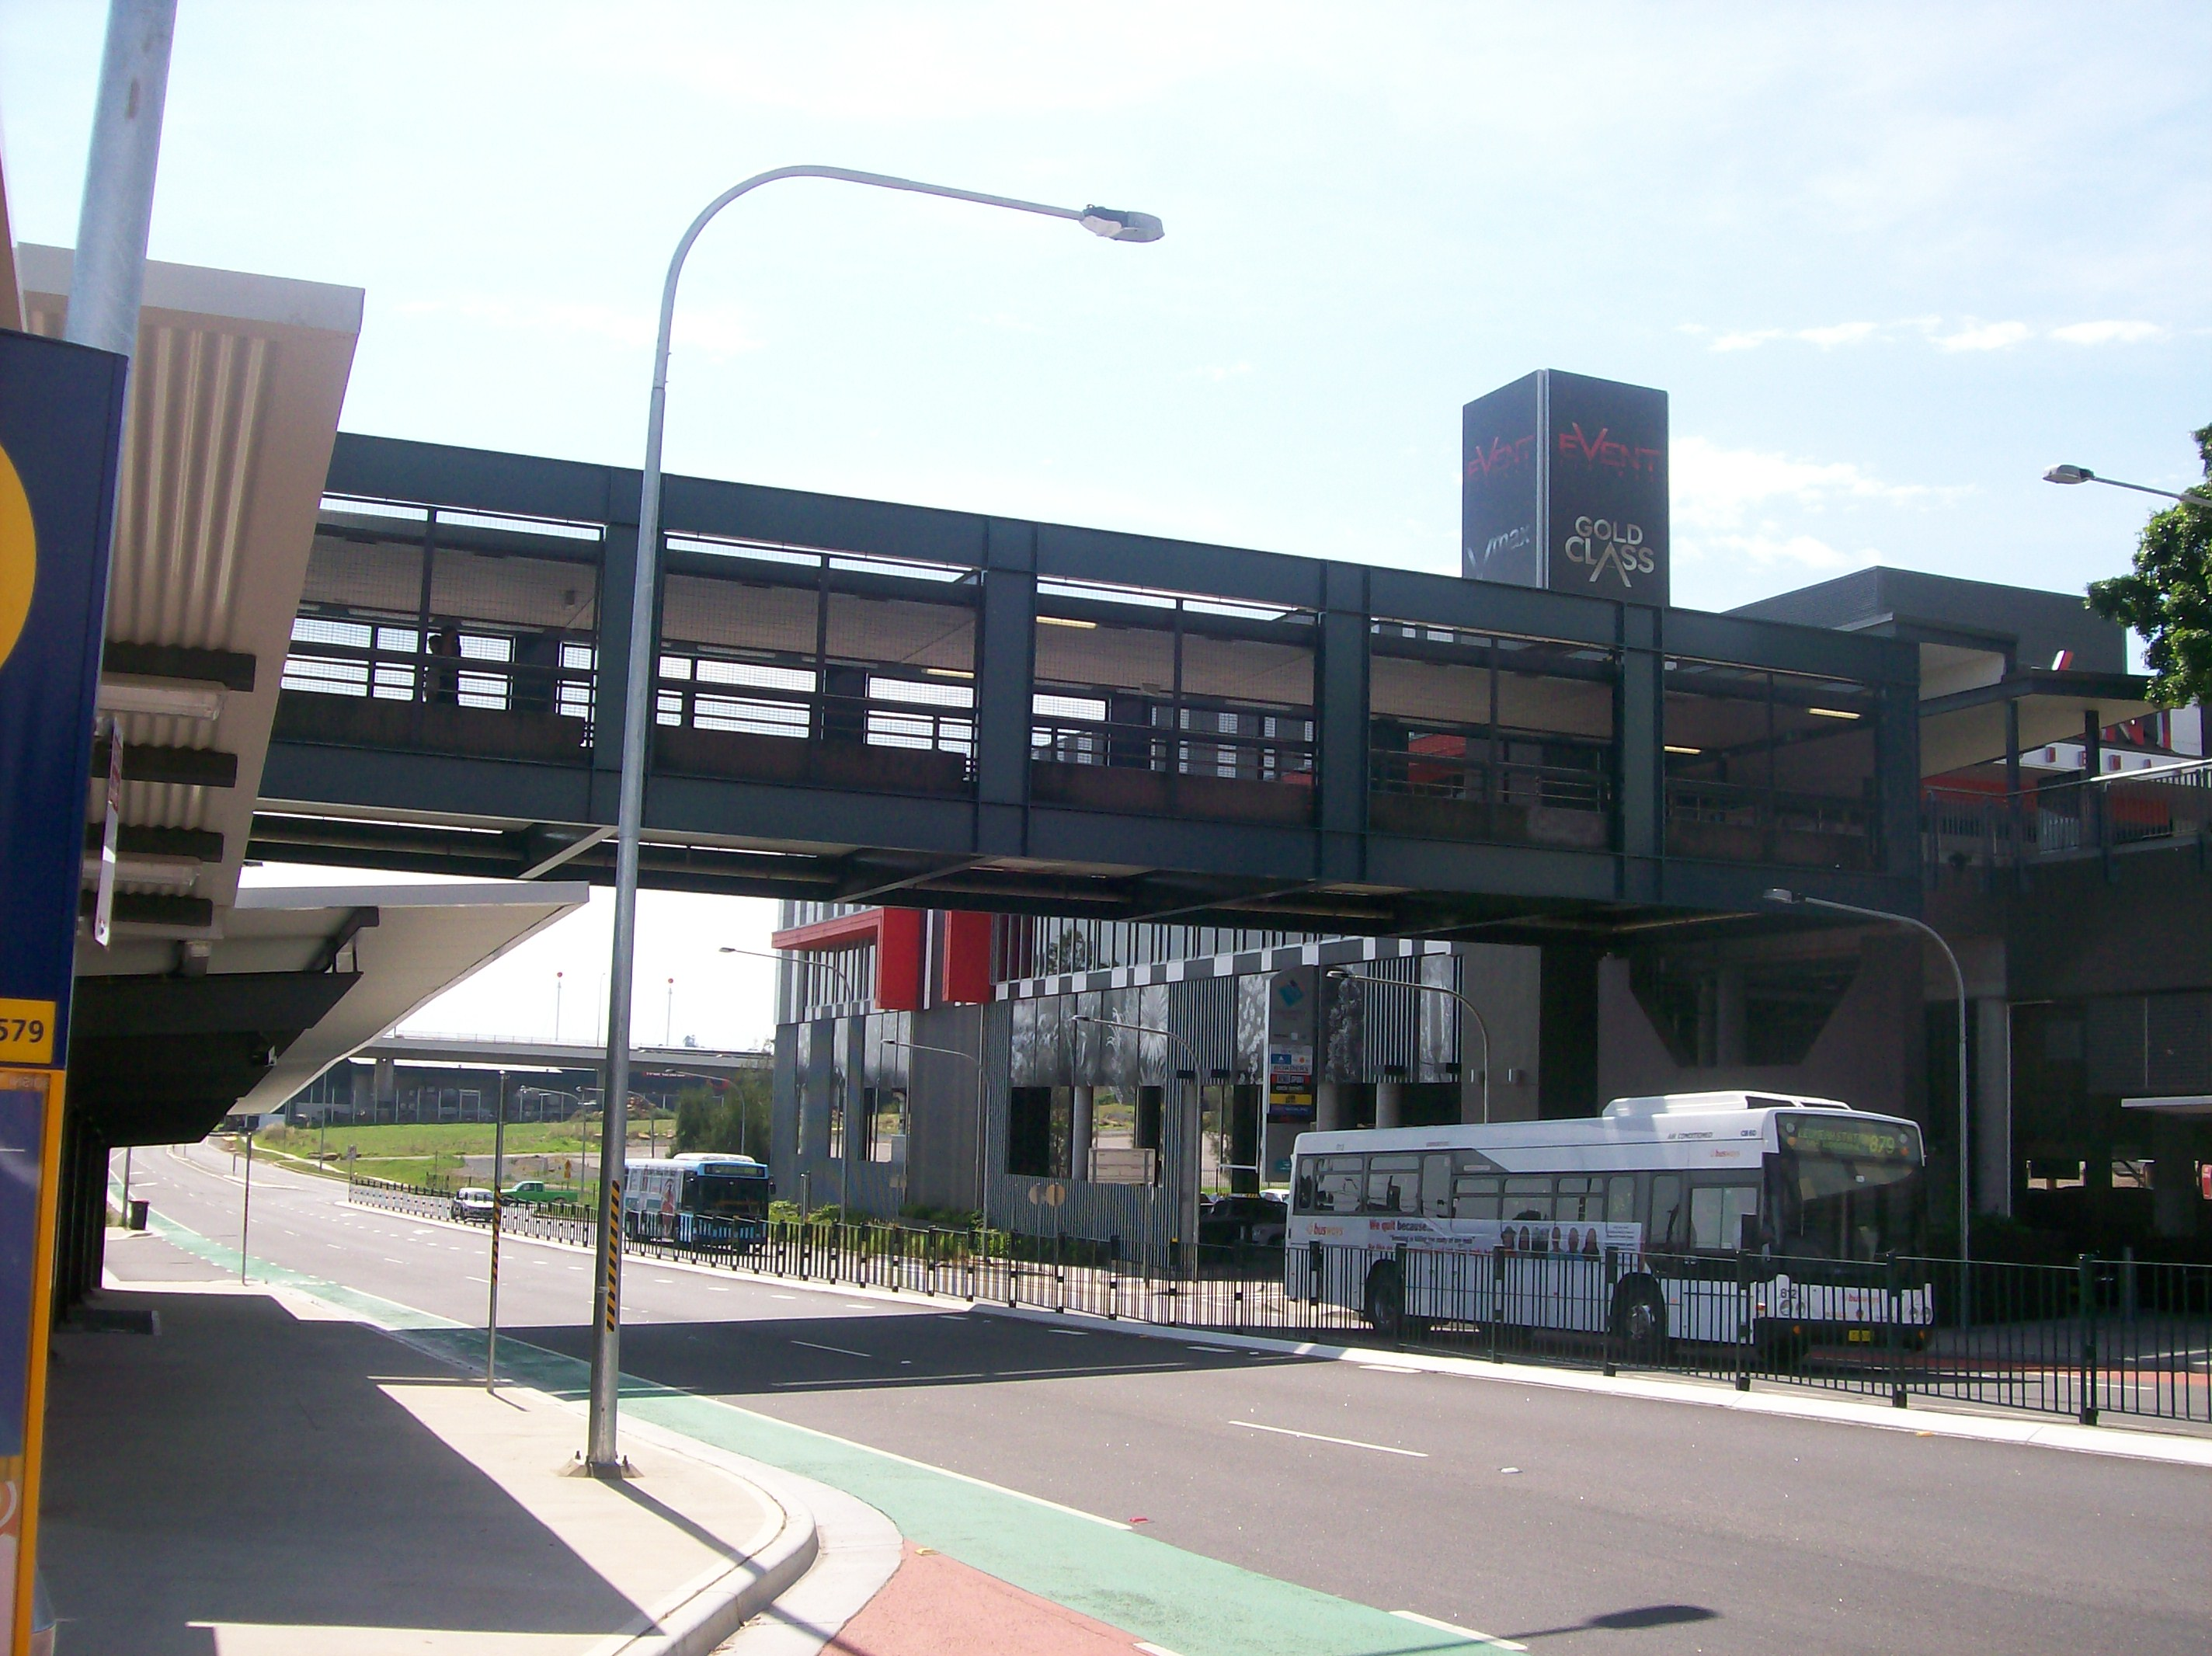bridge: (252, 417, 1922, 938)
